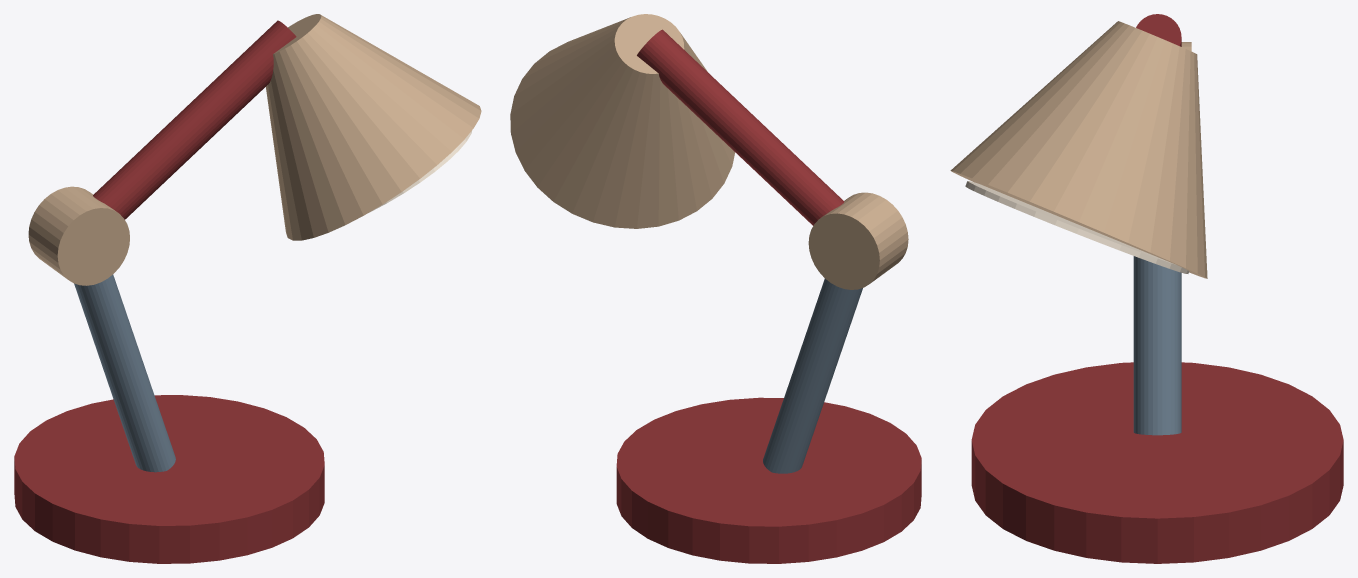
The model's file is lamp.glb.
The picture shows the model from 3 angles, left to right: view 1: azimuth 30°, elevation 25°; view 2: azimuth 150°, elevation 25°; view 3: azimuth 270°, elevation 25°; orthographic projection. The views are drawn at different scales.
Parts seen in each view (by area): view 1: base, shade, upper arm, lower arm, joint; view 2: base, shade, upper arm, lower arm, joint; view 3: base, shade, lower arm, diffuser, upper arm.
Boxes of the visible parts, left/top/right/bottom form: base: left=14, top=395, right=324, bottom=563; shade: left=266, top=14, right=481, bottom=240; upper arm: left=93, top=20, right=296, bottom=219; lower arm: left=74, top=274, right=175, bottom=472; joint: left=28, top=186, right=129, bottom=285; base: left=616, top=397, right=921, bottom=563; shade: left=510, top=14, right=735, bottom=228; upper arm: left=637, top=29, right=844, bottom=225; lower arm: left=763, top=278, right=862, bottom=473; joint: left=808, top=192, right=908, bottom=289; base: left=971, top=362, right=1343, bottom=563; shade: left=950, top=21, right=1207, bottom=278; lower arm: left=1133, top=256, right=1181, bottom=435; diffuser: left=965, top=181, right=1189, bottom=273; upper arm: left=1136, top=14, right=1181, bottom=46.
Bounding box in the file's own units: 1.58 × 1.67 × 1.1.
